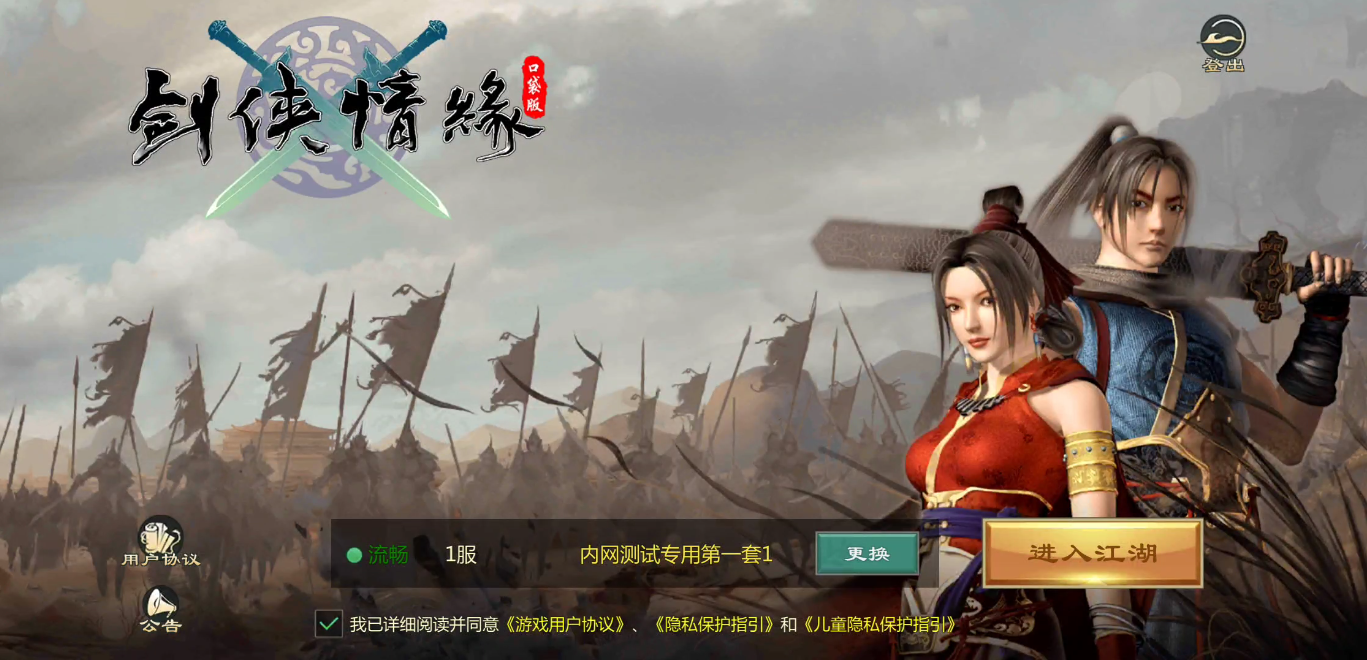enter: (986, 520, 1199, 585)
